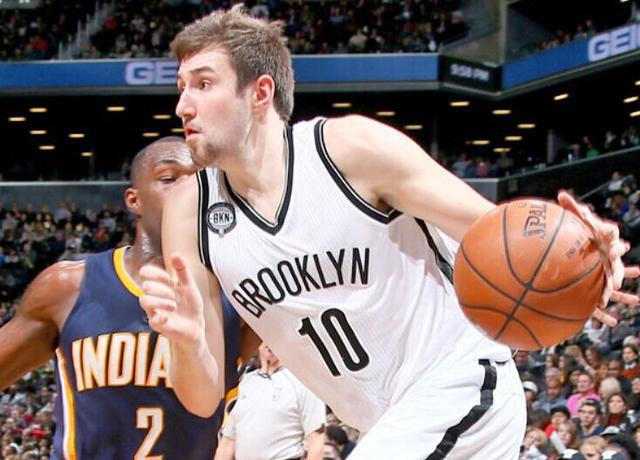face: (175, 44, 241, 162), (139, 144, 209, 240)
face_mask: (577, 405, 594, 422), (608, 396, 624, 411), (556, 426, 571, 442), (604, 362, 620, 376), (581, 447, 599, 459), (575, 375, 590, 389), (551, 412, 566, 425), (620, 347, 633, 360), (514, 352, 528, 364)
